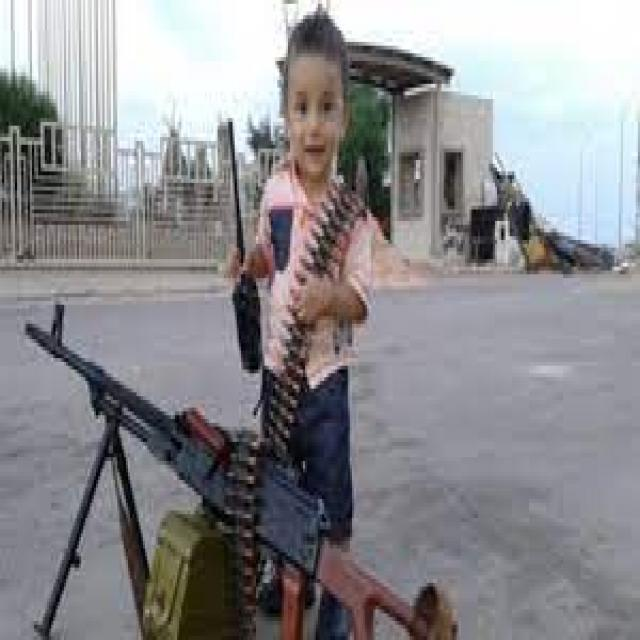weapon: (25, 303, 459, 640)
